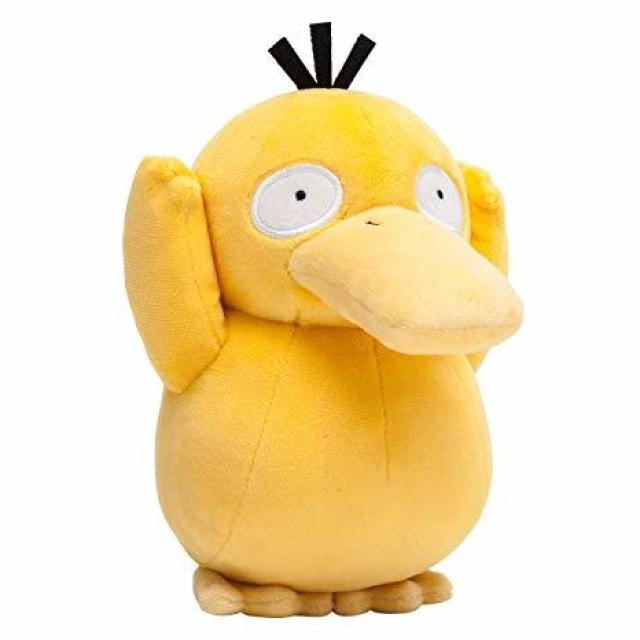Psyduck: (146, 48, 509, 614)
